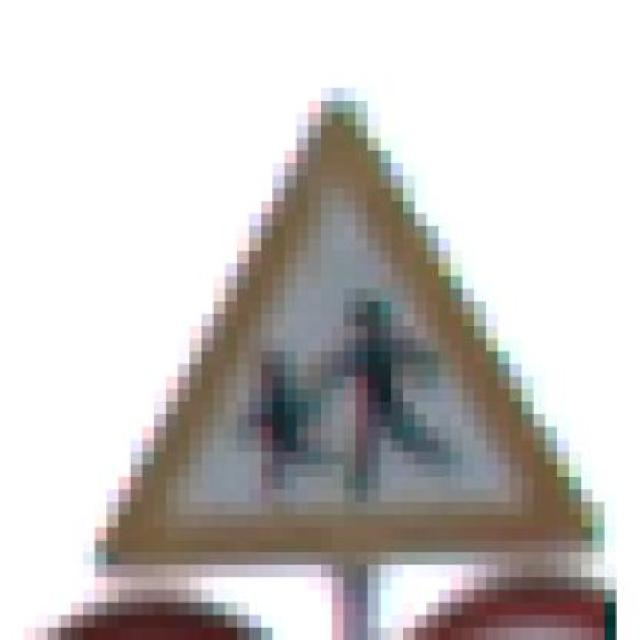Beware of children: (85, 70, 607, 598)
